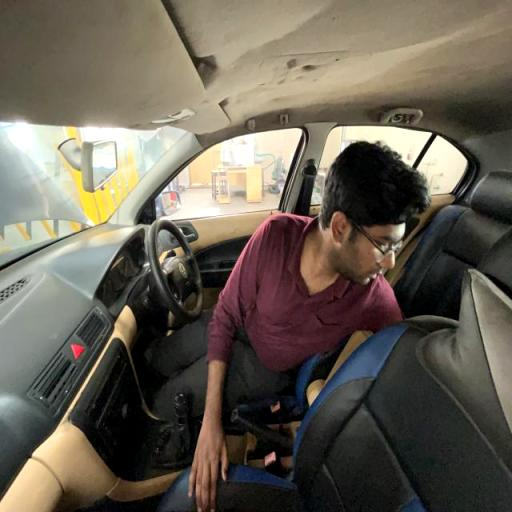Reaching_behind: (196, 139, 432, 466)
